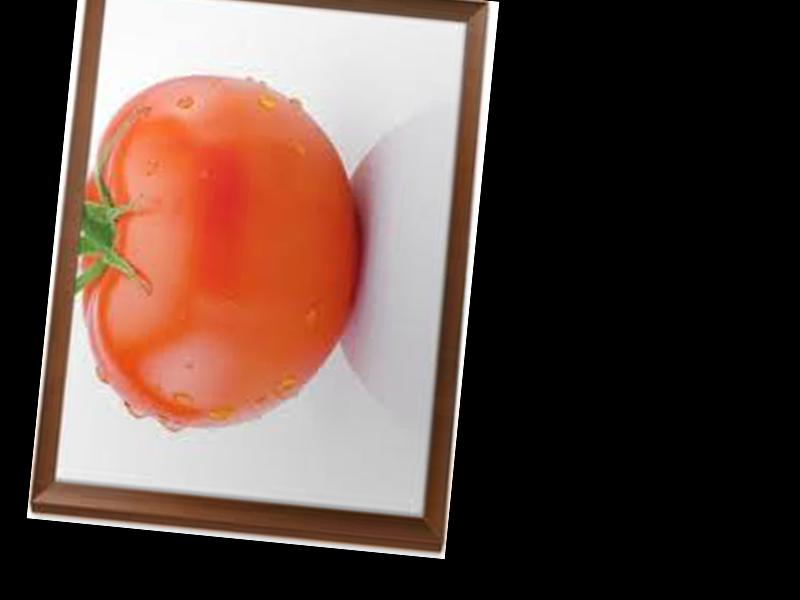Tomato: (60, 65, 376, 442)
